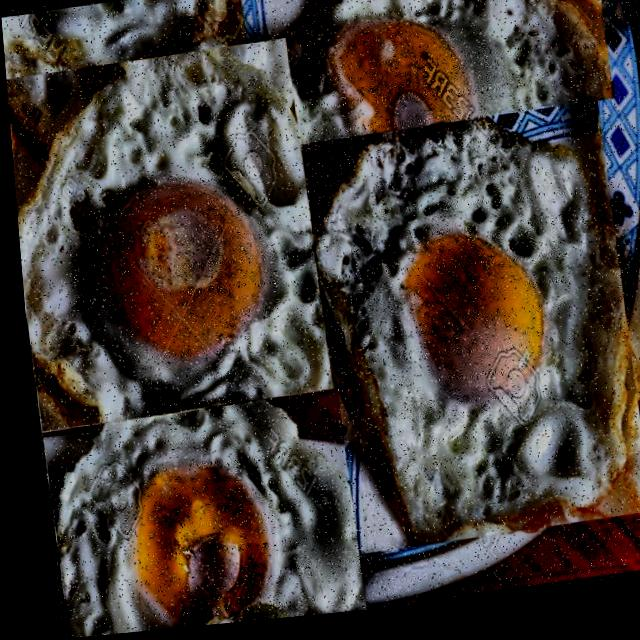Food: (293, 88, 640, 563), (4, 40, 325, 432), (31, 393, 354, 640), (236, 0, 612, 155)
